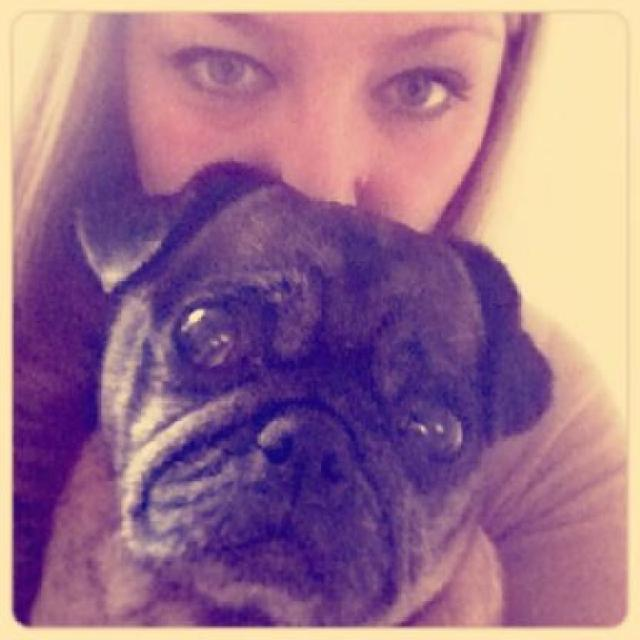Person: (12, 8, 630, 626)
